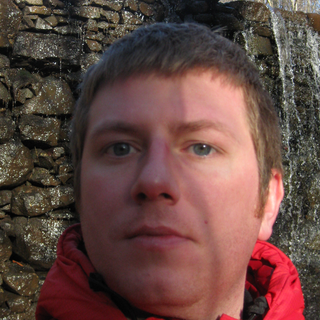eye: (178, 136, 224, 162), (97, 138, 142, 162)
